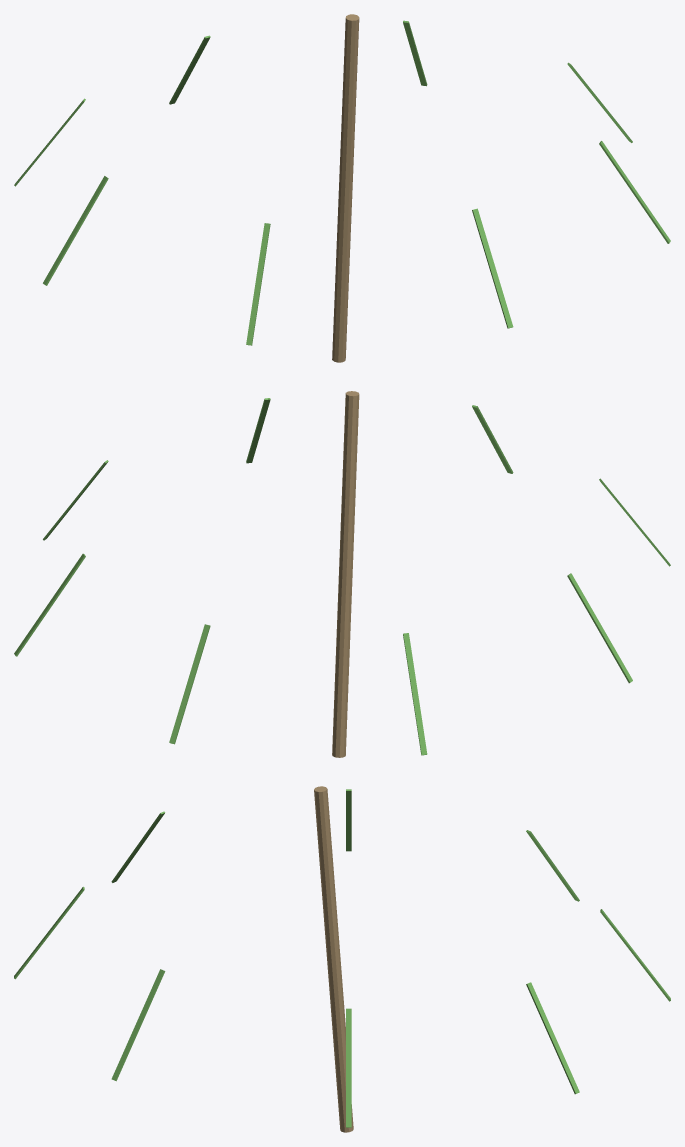
The model's file is Veg_CoconutPalm_B.fbx.
3 renders of one model, top to bottom at view 1: azimuth 30°, elevation 25°; view 2: azimuth 150°, elevation 25°; view 3: azimuth 270°, elevation 25°, orthographic. The views are drawn at different scales.
Parts seen in each view (by area): view 1: Veg_CoconutPalm_B; view 2: Veg_CoconutPalm_B; view 3: Veg_CoconutPalm_B.
Boxes of the visible parts, <box> form: Veg_CoconutPalm_B: <box>14,14,670,362</box>; Veg_CoconutPalm_B: <box>14,391,670,757</box>; Veg_CoconutPalm_B: <box>14,786,670,1132</box>.
Bounding box in the file's own units: 17.44 × 10 × 17.44.
